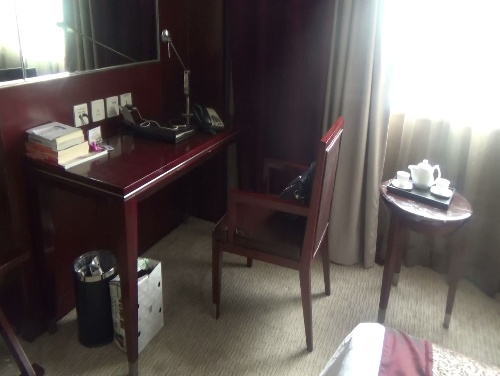chair: (206, 112, 348, 358), (375, 170, 477, 330)
cup: (433, 176, 453, 206), (390, 167, 412, 193)
table: (25, 98, 235, 369)
